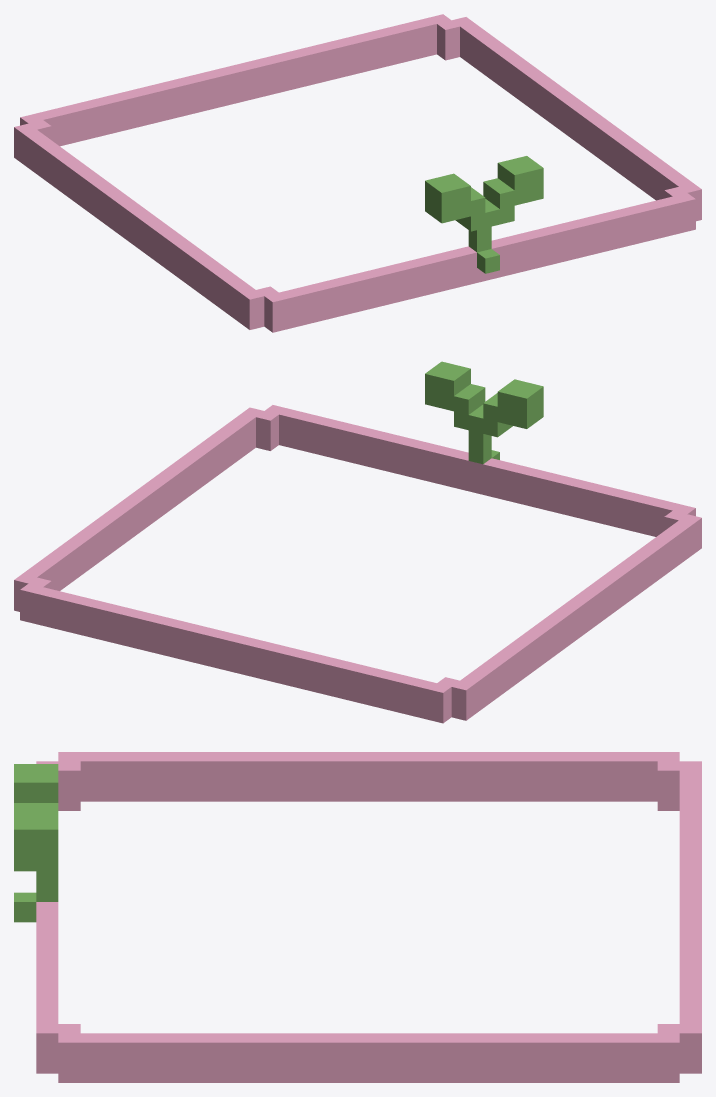
Rendered from angie-acc0.c5f273c5.glb.
The picture shows the model from 3 angles, top to bottom: view 1: azimuth 30°, elevation 25°; view 2: azimuth 150°, elevation 25°; view 3: azimuth 270°, elevation 25°; orthographic projection. The views are drawn at different scales.
Visible parts, largest first — view 1: banda, brote; view 2: banda, brote; view 3: banda, brote.
Boxes of the visible parts, x1=… form: banda: x1=14, y1=14, x2=701, y2=332; brote: x1=425, y1=156, x2=543, y2=273; banda: x1=14, y1=405, x2=701, y2=723; brote: x1=425, y1=361, x2=543, y2=464; banda: x1=36, y1=752, x2=701, y2=1082; brote: x1=14, y1=764, x2=58, y2=922.
Bounding box in the file's own units: 0.558 × 0.126 × 0.558.
